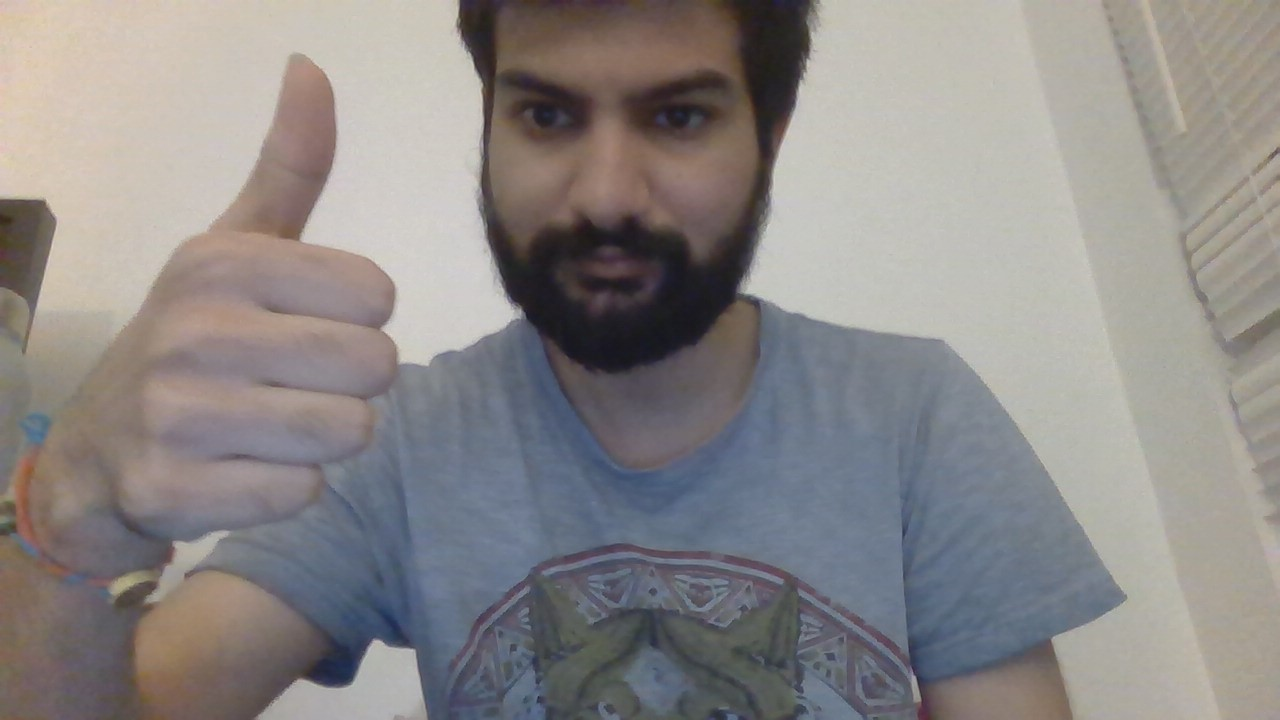up: (108, 47, 408, 530)
